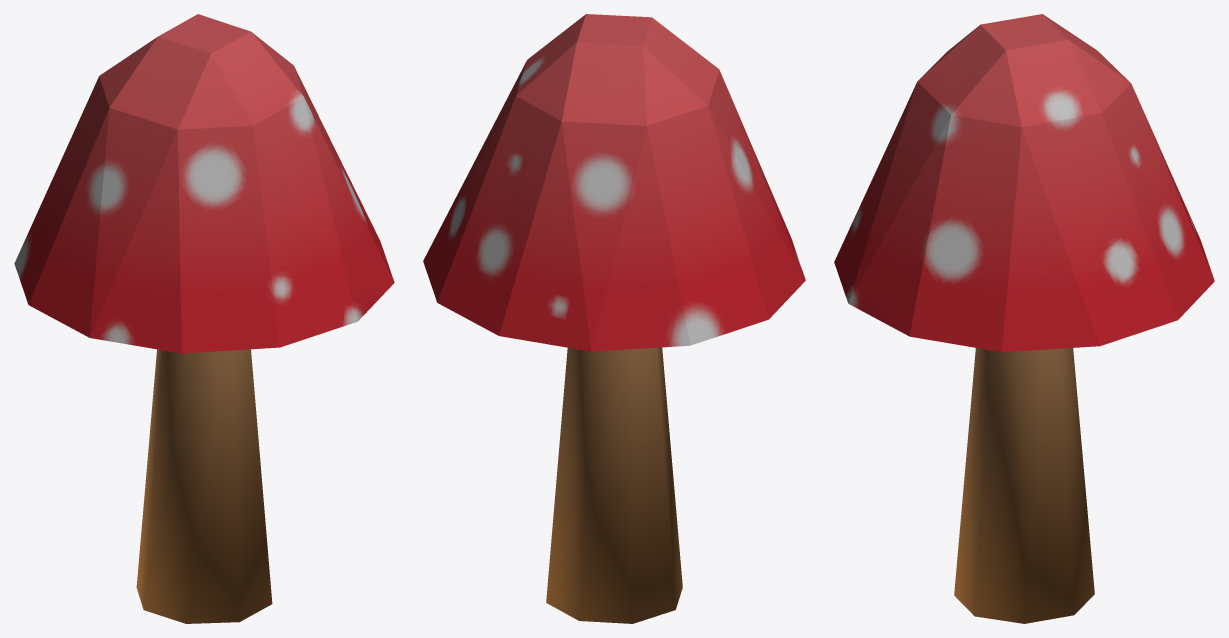
File: Mashroom3.fbx
3 renders of one model, left to right at view 1: azimuth 30°, elevation 25°; view 2: azimuth 150°, elevation 25°; view 3: azimuth 270°, elevation 25°, orthographic.
Visible parts, largest first — view 1: Cylinder.034; view 2: Cylinder.034; view 3: Cylinder.034.
Part boxes in pixels (x1,y1,x2,y2): Cylinder.034: (14, 14, 394, 623); Cylinder.034: (423, 14, 805, 623); Cylinder.034: (834, 14, 1214, 623).
Size of the model in its own units: 0.302 by 0.493 by 0.302.
1 material, 1 textured.
